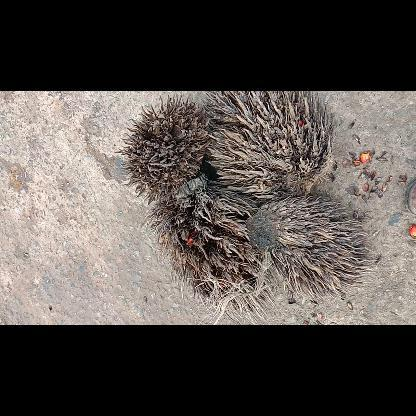Janjang kosong: (146, 174, 276, 324), (203, 90, 333, 198), (245, 196, 373, 300), (115, 96, 209, 204)
